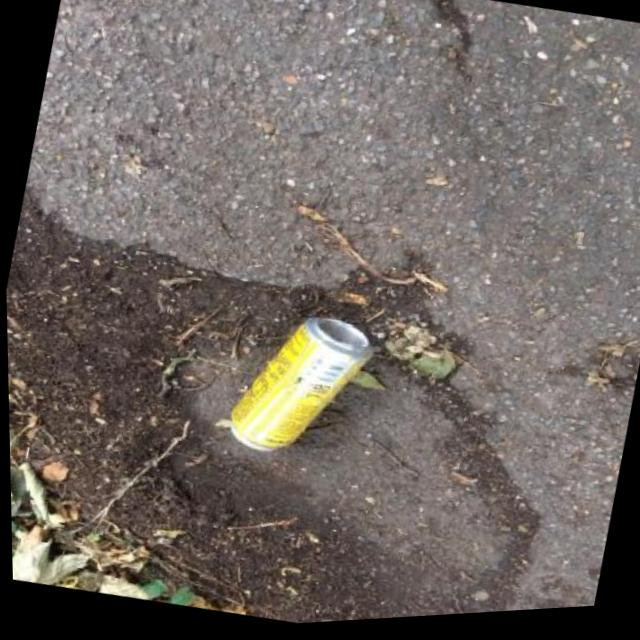metal: (220, 297, 381, 472)
